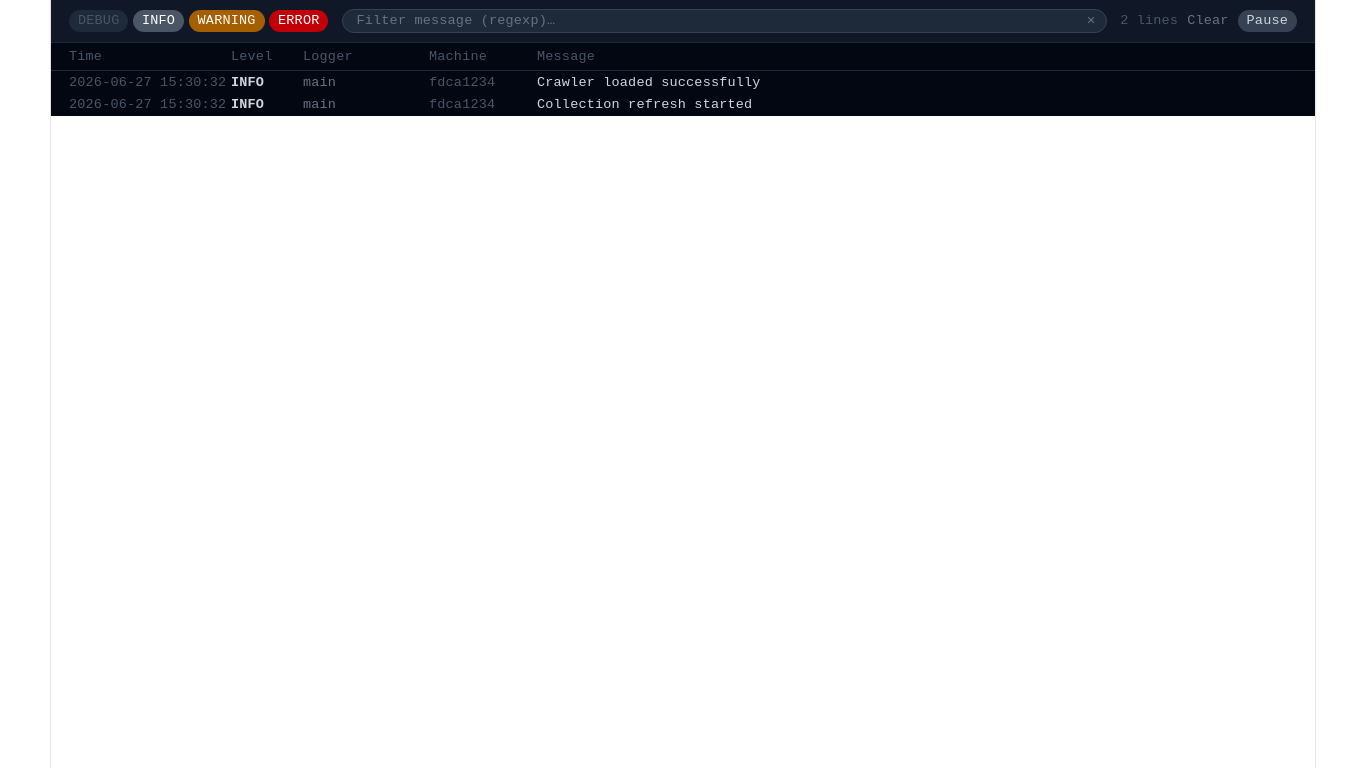
Scenario: LogViewer › filters by message regexp
The width and height of the screenshot is (1366, 768).
Type "refresh" into the field with placeholder "Filter message (regexp)…" at coordinates (724, 21), box [342,9,1107,34]
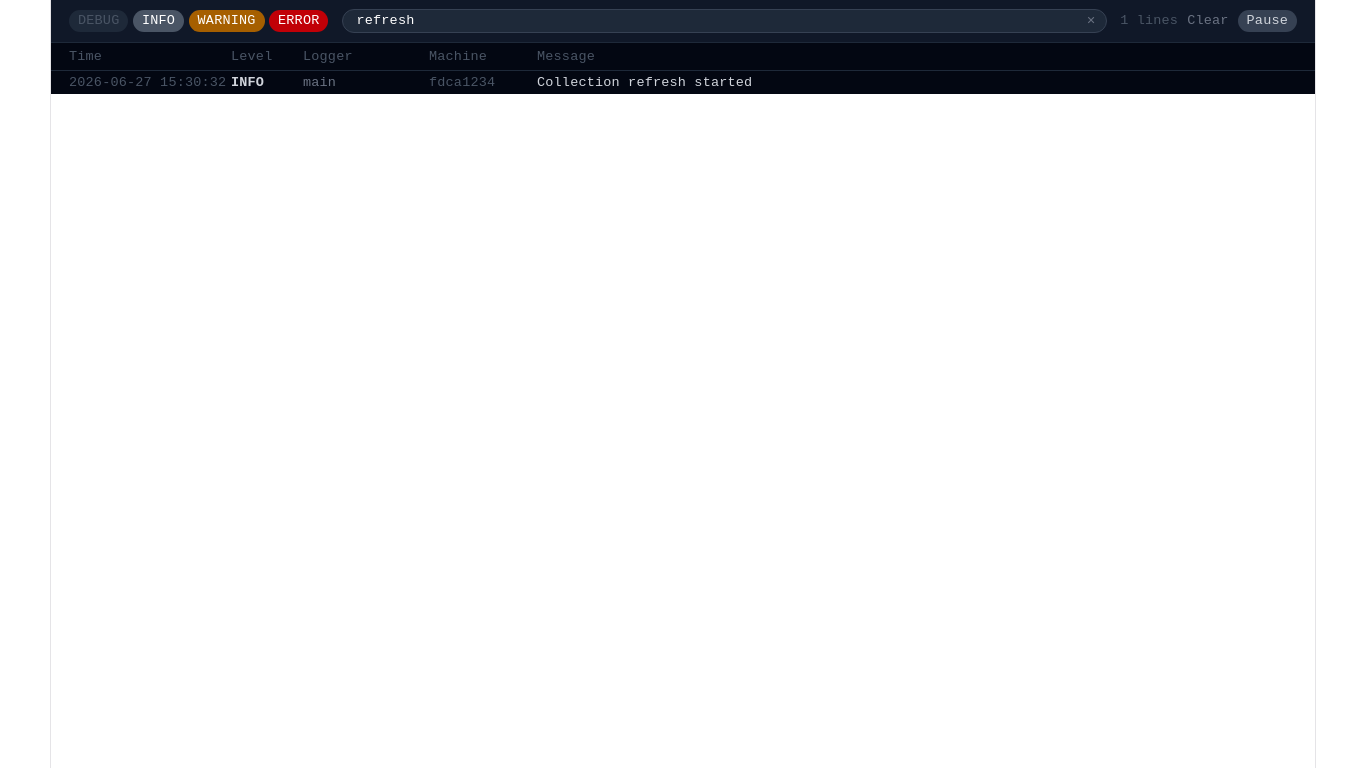
Expected: the text "Collection refresh started" is shown, [537,75,752,90]
Now the text "Crawler loaded successfully" is gone
